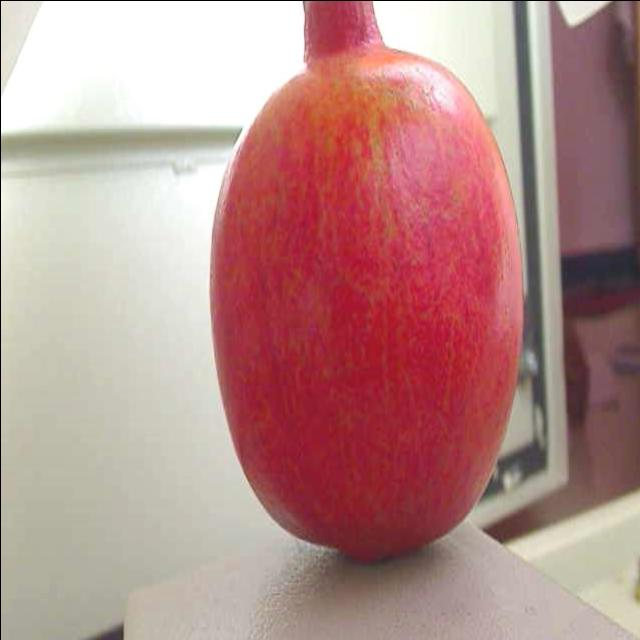pomegranate: (194, 0, 538, 568)
